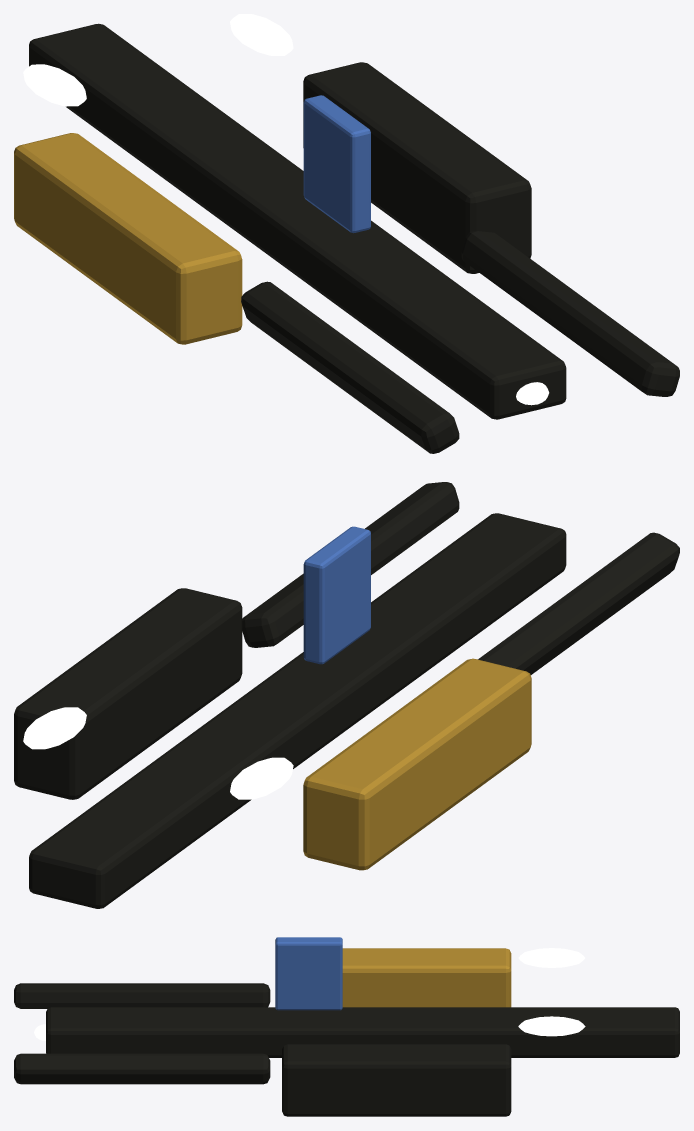
3 views of the same model, one above another, from view 1: azimuth 30°, elevation 25°; view 2: azimuth 150°, elevation 25°; view 3: azimuth 270°, elevation 25° (orthographic). The views are drawn at different scales.
Parts seen in each view (by area): view 1: RIMWARD_HULL, RIMWARD_EMISSIVE; view 2: RIMWARD_HULL, RIMWARD_EMISSIVE; view 3: RIMWARD_HULL, RIMWARD_EMISSIVE.
Part boxes in pixels (<box>): RIMWARD_HULL: <box>14,23,679,453</box>; RIMWARD_EMISSIVE: <box>23,14,293,106</box>; RIMWARD_HULL: <box>14,482,679,908</box>; RIMWARD_EMISSIVE: <box>23,707,293,799</box>; RIMWARD_HULL: <box>14,937,679,1116</box>; RIMWARD_EMISSIVE: <box>518,948,585,1036</box>.
Size of the model in its own units: 2.97 by 1.42 by 7.11.
